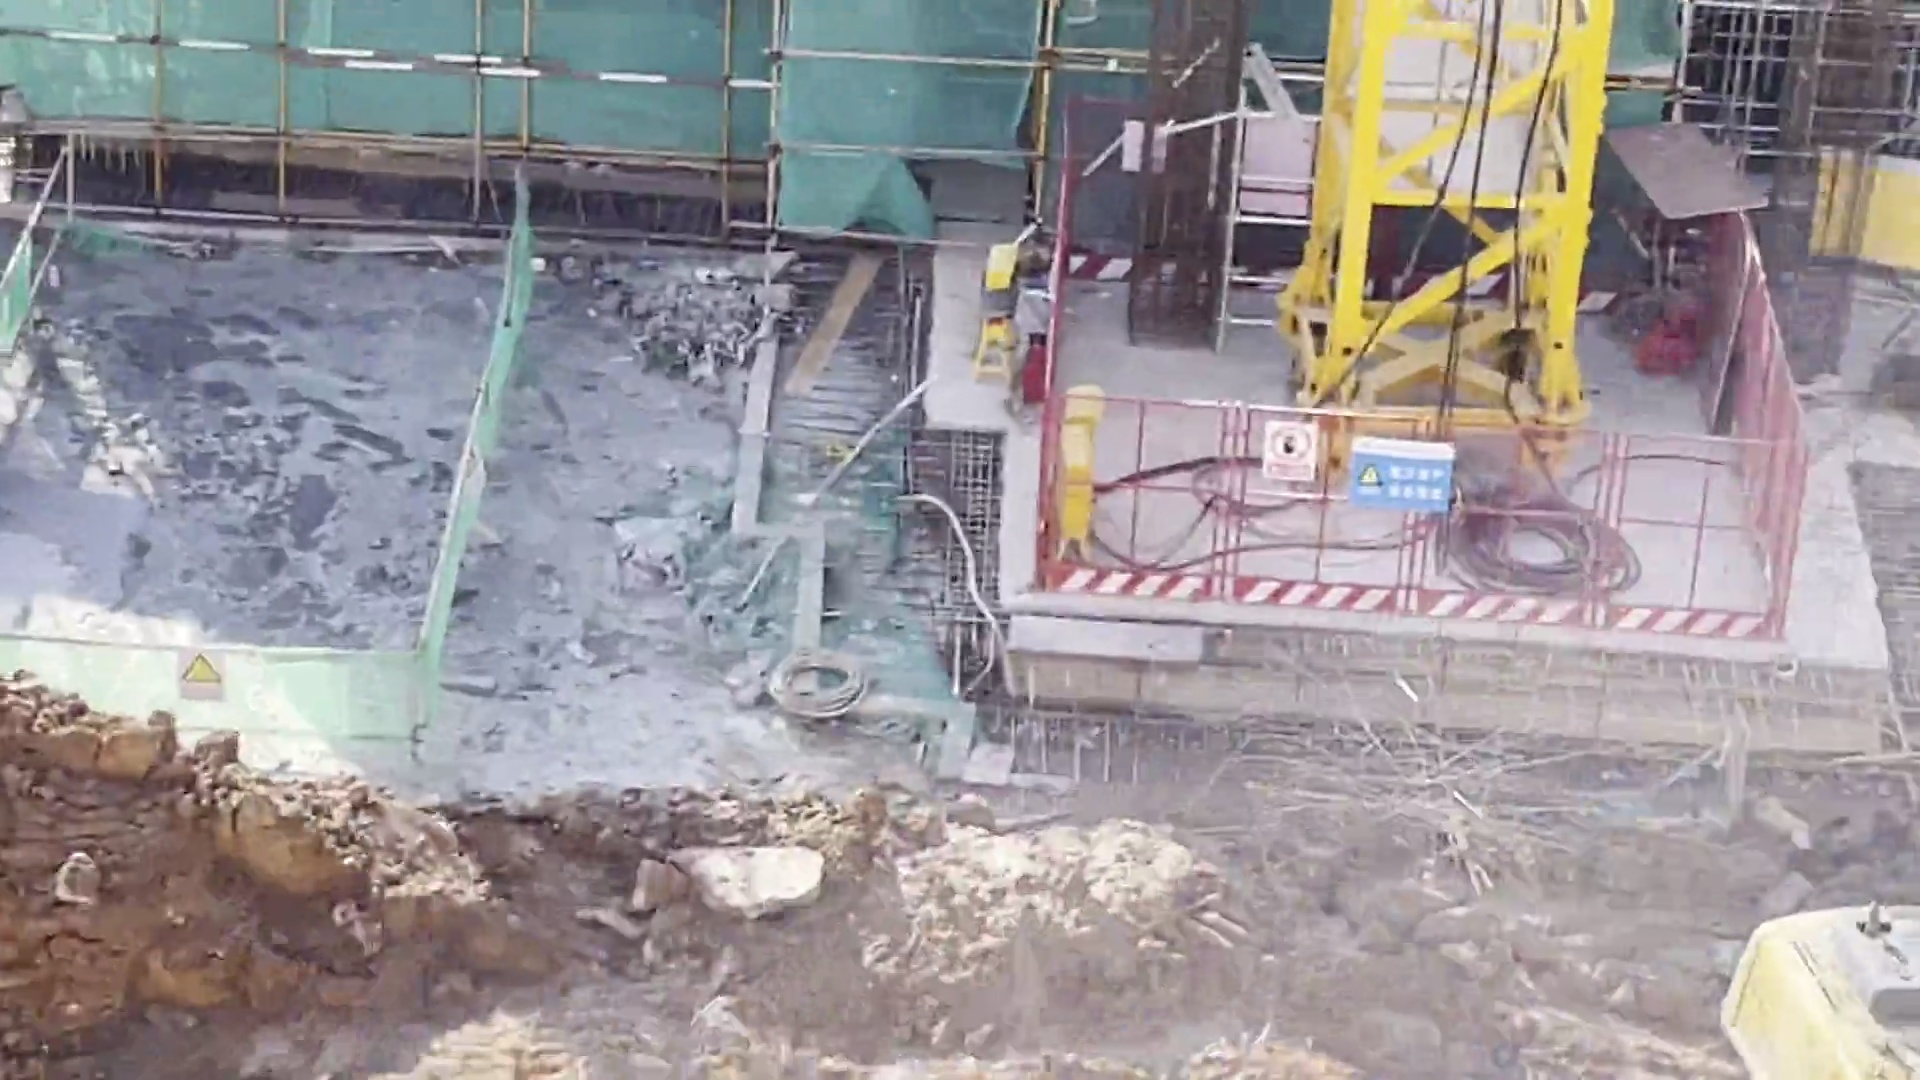ebox: (1811, 140, 1920, 289), (1055, 382, 1100, 566), (975, 243, 1019, 389)
slogan: (1346, 436, 1455, 520), (1262, 411, 1319, 483), (177, 644, 223, 705)
